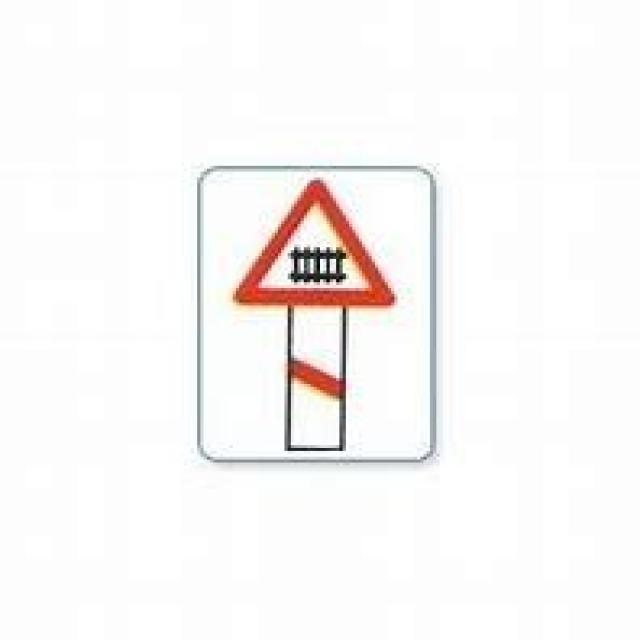guarded level crossing: (231, 178, 396, 308)
